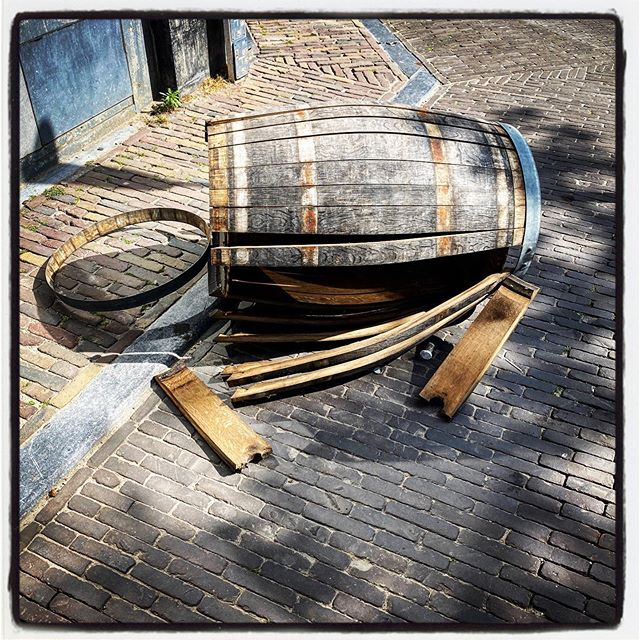barrel: (35, 110, 561, 457)
